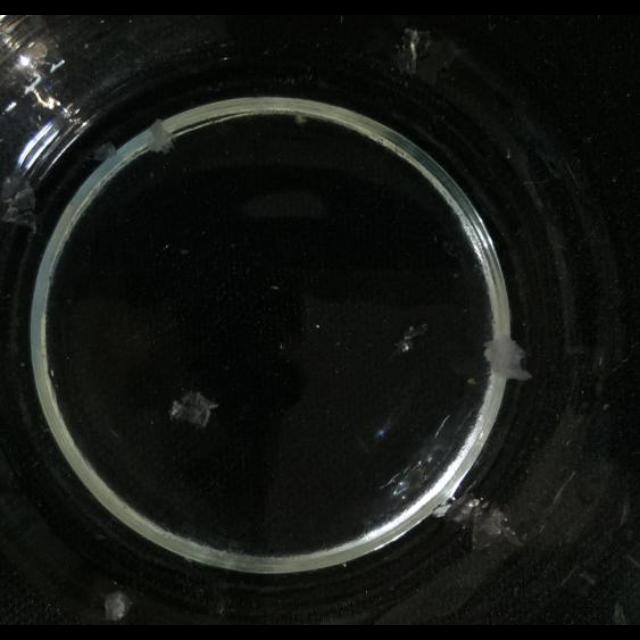Fibre: (468, 502, 522, 552), (1, 173, 37, 225), (397, 27, 429, 74), (144, 118, 178, 154), (393, 323, 427, 355), (103, 592, 131, 622), (431, 499, 453, 518), (612, 602, 628, 624)
Film: (168, 389, 218, 429)
microbeads: (270, 284, 280, 290)
